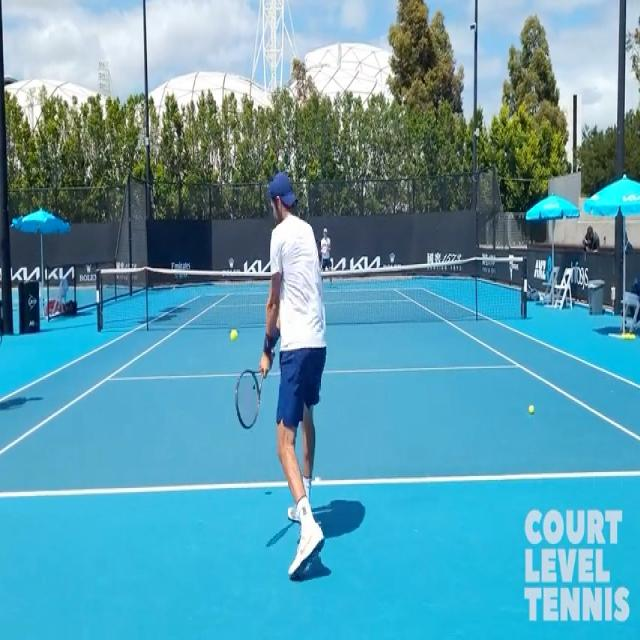backhand-stroke: (204, 160, 343, 592)
